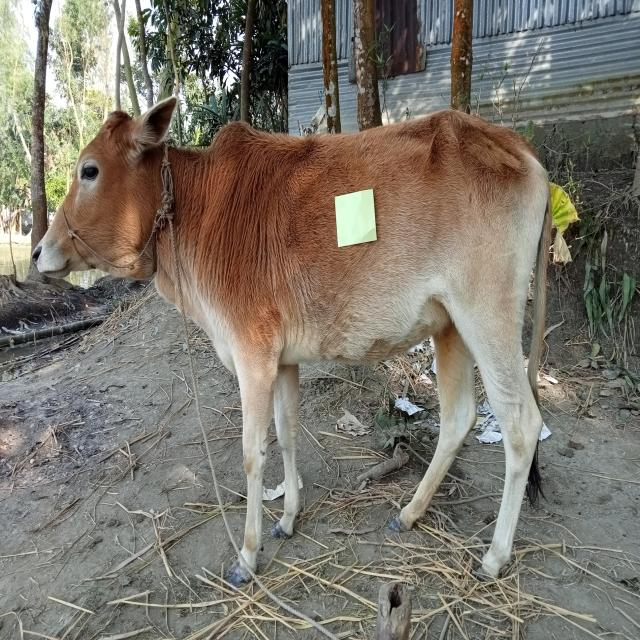badan_sapi: (232, 132, 548, 376)
sapi: (29, 82, 572, 585)
